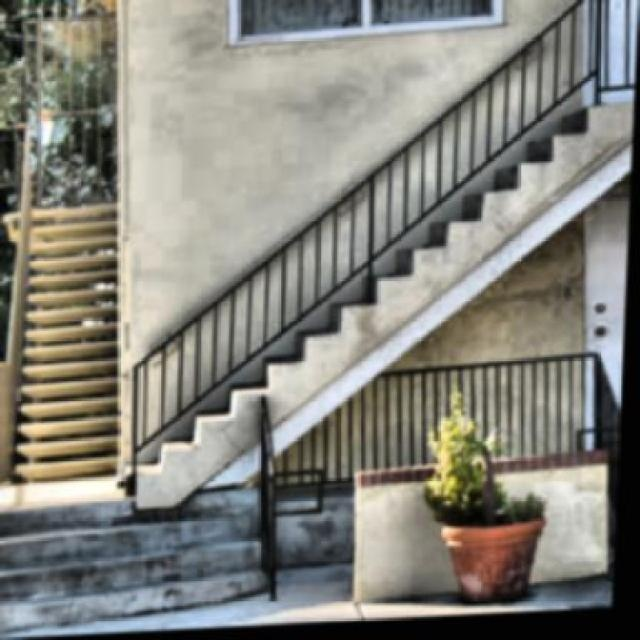stair: (3, 199, 140, 485)
